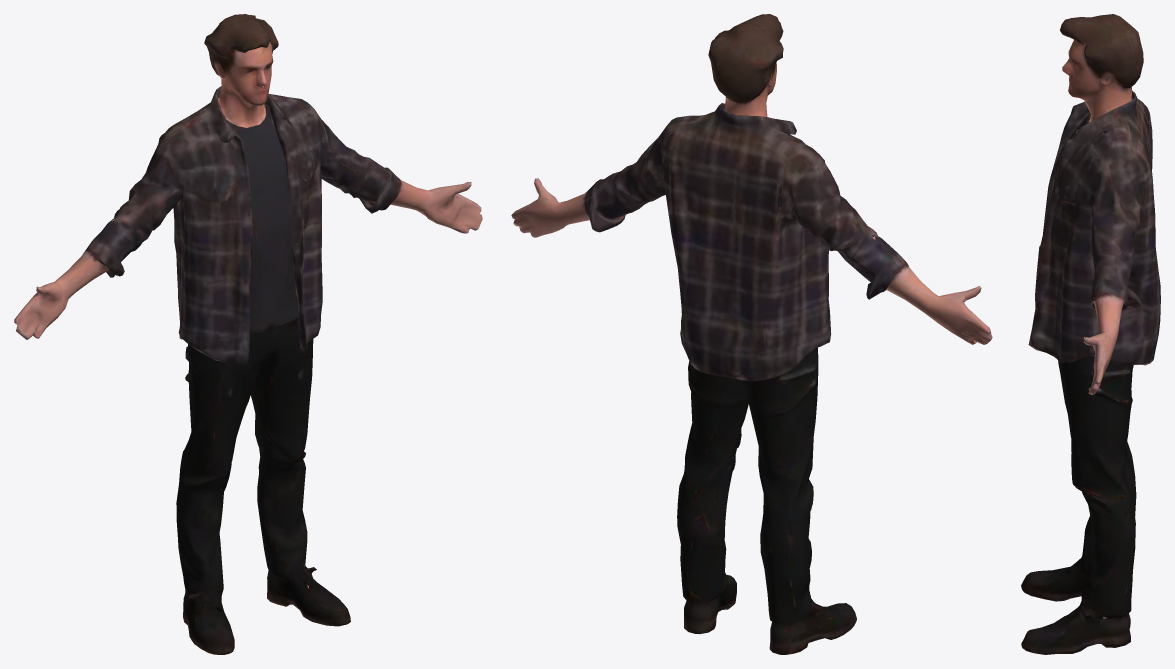
Rendered from fan-m-shoulders-s1.glb.
3 renders of one model, left to right at view 1: azimuth 30°, elevation 25°; view 2: azimuth 150°, elevation 25°; view 3: azimuth 270°, elevation 25°, orthographic. The views are drawn at different scales.
Parts seen in each view (by area): view 1: geometry_0; view 2: geometry_0; view 3: geometry_0.
Part boxes in pixels (box(x1,y1,x2,y2)): geometry_0: box(14, 14, 482, 654); geometry_0: box(511, 14, 992, 654); geometry_0: box(1021, 14, 1160, 654).
Size of the model in its own units: 0.8229 by 1 by 0.2109.
Materials: 1 (1 with a texture image).
